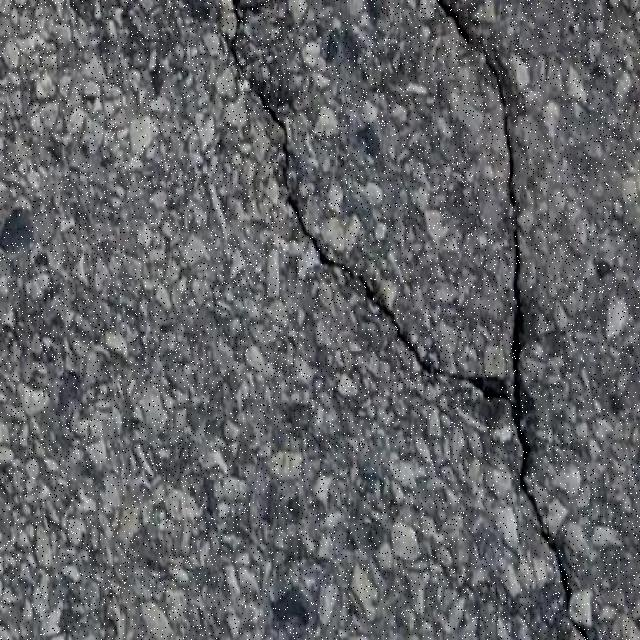Crack: (437, 0, 586, 639), (437, 0, 520, 251), (212, 0, 286, 153), (288, 166, 349, 281), (394, 324, 420, 359), (362, 286, 386, 317), (423, 362, 462, 379)
